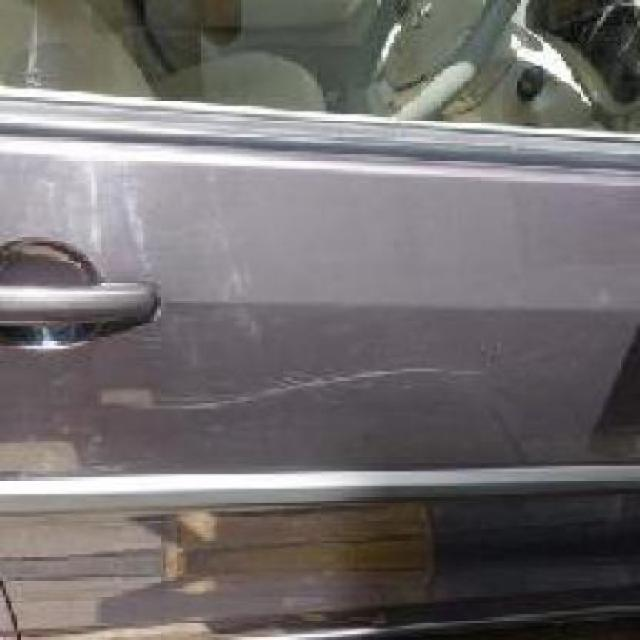dent-or-scratch: (117, 353, 503, 415)
